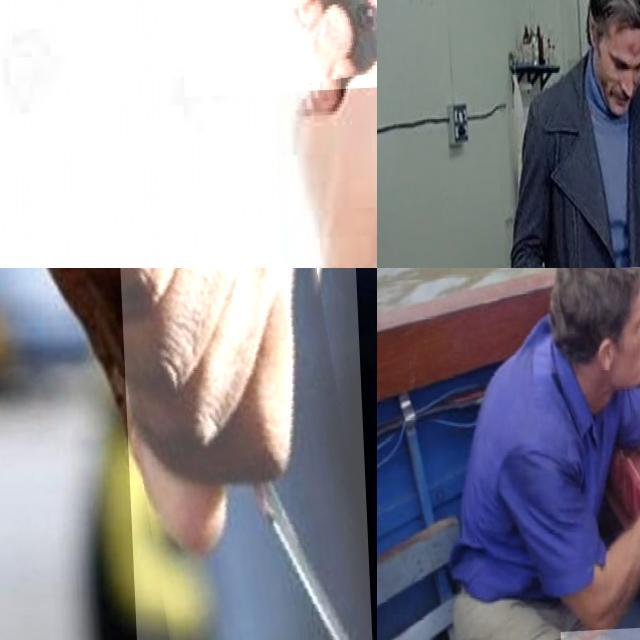-: (117, 268, 370, 640)
gun-knife-thesis - v11 Yolov5 augmented: (170, 0, 377, 166)
